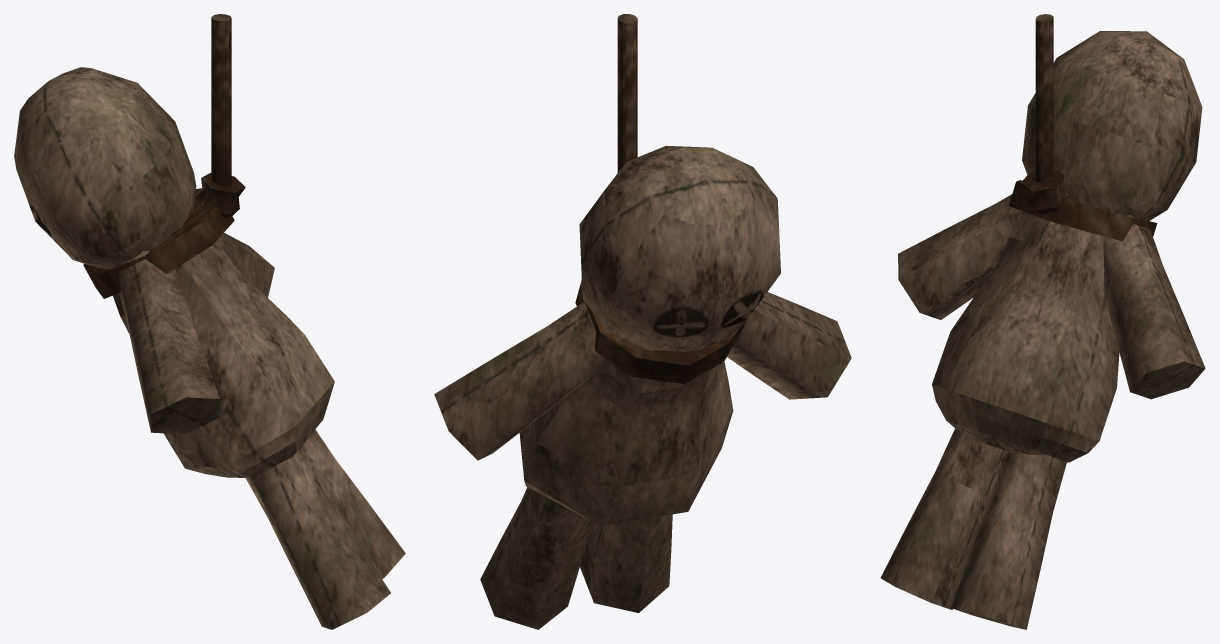
The model's file is Doll.fbx.
3 views of the same model, side by side, from view 1: azimuth 30°, elevation 25°; view 2: azimuth 150°, elevation 25°; view 3: azimuth 270°, elevation 25° (orthographic). The views are drawn at different scales.
Visible parts, largest first — view 1: Doll_hang__LOD0; view 2: Doll_hang__LOD0; view 3: Doll_hang__LOD0.
Part boxes in pixels (x1=…): Doll_hang__LOD0: x1=14, y1=14, x2=405, y2=629; Doll_hang__LOD0: x1=434, y1=14, x2=851, y2=629; Doll_hang__LOD0: x1=880, y1=14, x2=1205, y2=629.
Size of the model in its own units: 13.5 by 23.99 by 12.58.
